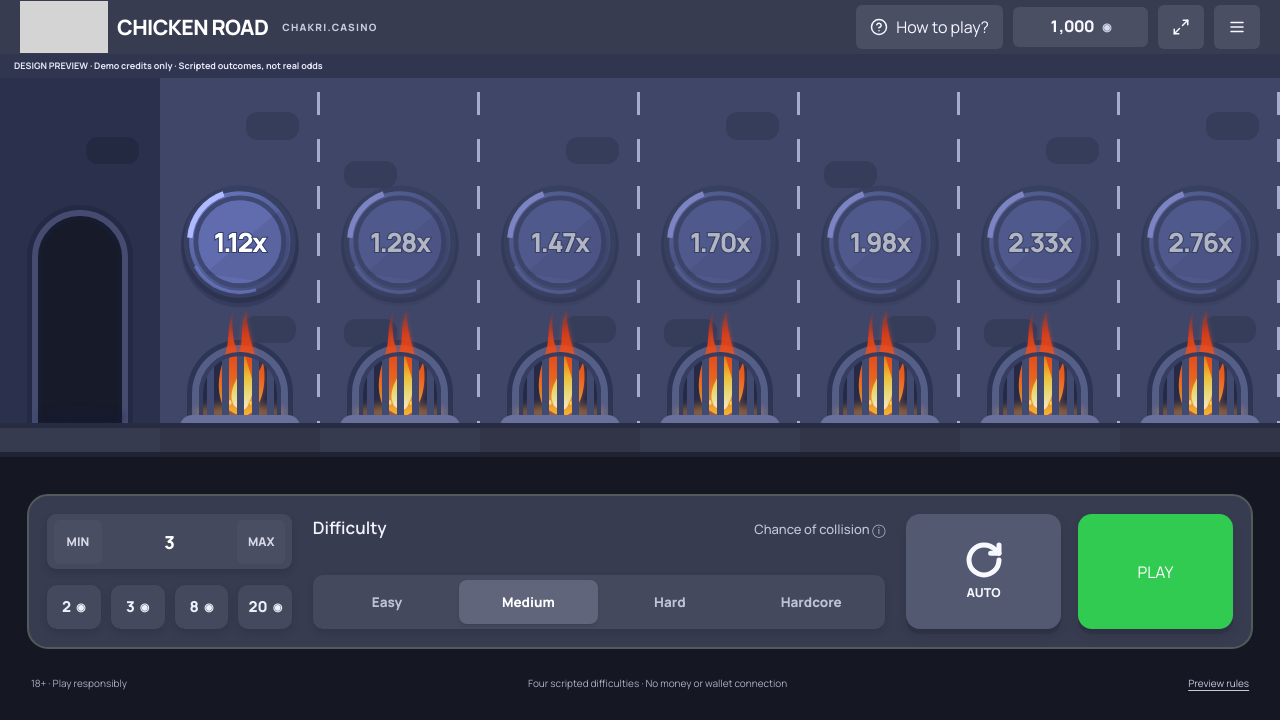
it: Easy is playable only as a local scripted preview with its own ladder
The width and height of the screenshot is (1280, 720).
Later steps or results of the test are not shown.
Click the button "Easy" at (387, 602), box [318, 580, 456, 624]
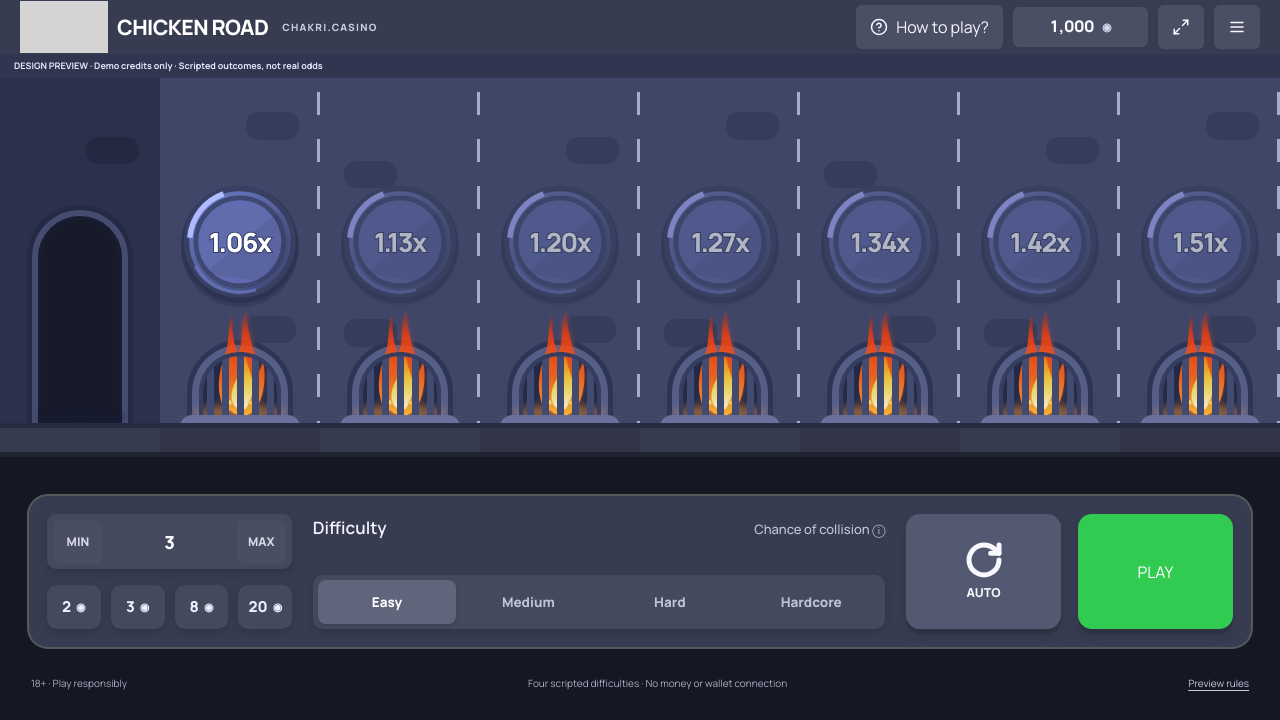
Check: the button "Easy" is pressed, box [318, 580, 456, 624]
